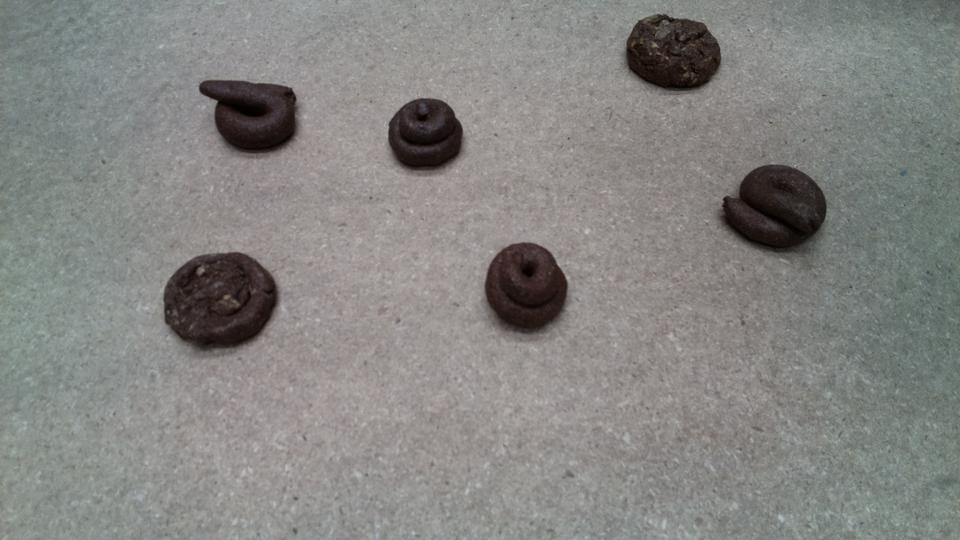poop: (159, 247, 285, 352), (718, 159, 831, 256), (482, 239, 571, 337), (195, 75, 304, 155), (622, 12, 723, 95), (386, 95, 465, 172)
